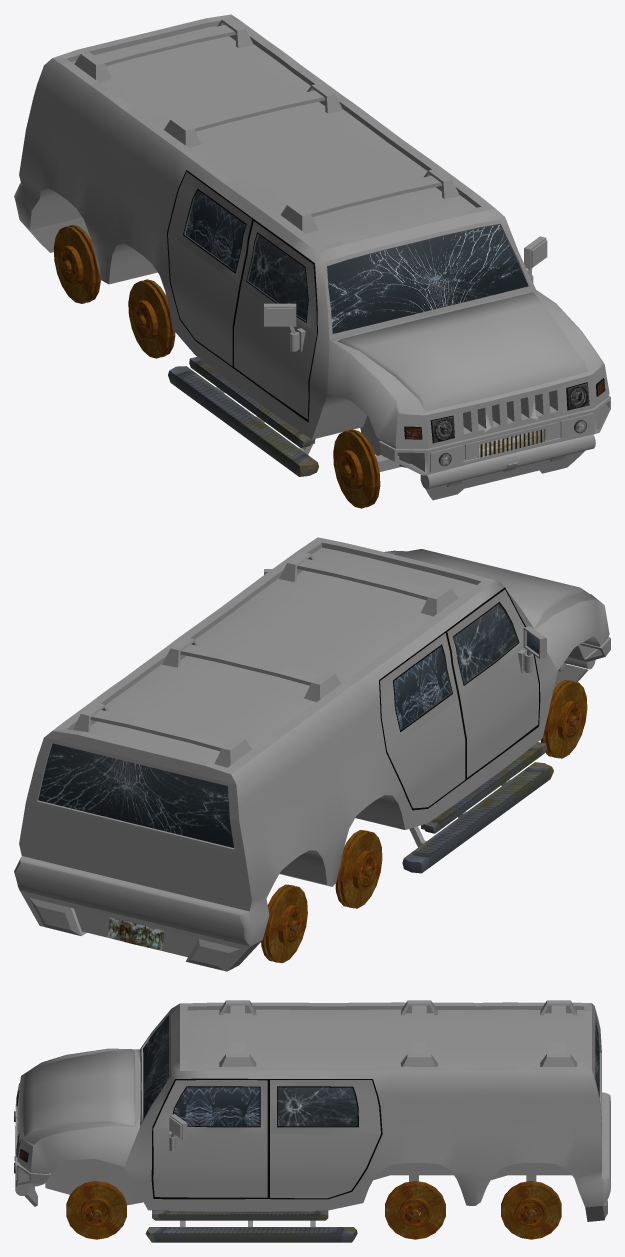
Rendered from Static_hummer 1.FBX.
The picture shows the model from 3 angles, top to bottom: view 1: azimuth 30°, elevation 25°; view 2: azimuth 150°, elevation 25°; view 3: azimuth 270°, elevation 25°; orthographic projection. The views are drawn at different scales.
Visible parts, largest first — view 1: Hummer_Body; view 2: Hummer_Body; view 3: Hummer_Body.
Part boxes in pixels (bbox=[...]): Hummer_Body: bbox=[14, 14, 610, 508]; Hummer_Body: bbox=[14, 537, 610, 971]; Hummer_Body: bbox=[14, 1000, 610, 1242].
Size of the model in its own units: 158 by 118 by 373.
